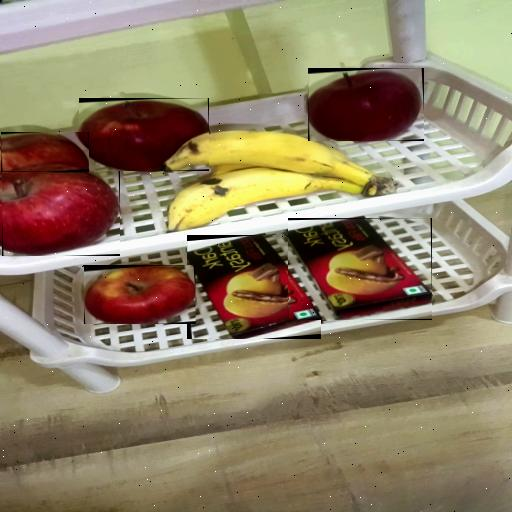Apple: (2, 168, 120, 256), (79, 98, 209, 171), (308, 68, 424, 141), (82, 265, 194, 324), (1, 132, 89, 172)
Choco Fills: (288, 218, 432, 320), (187, 235, 321, 339)
